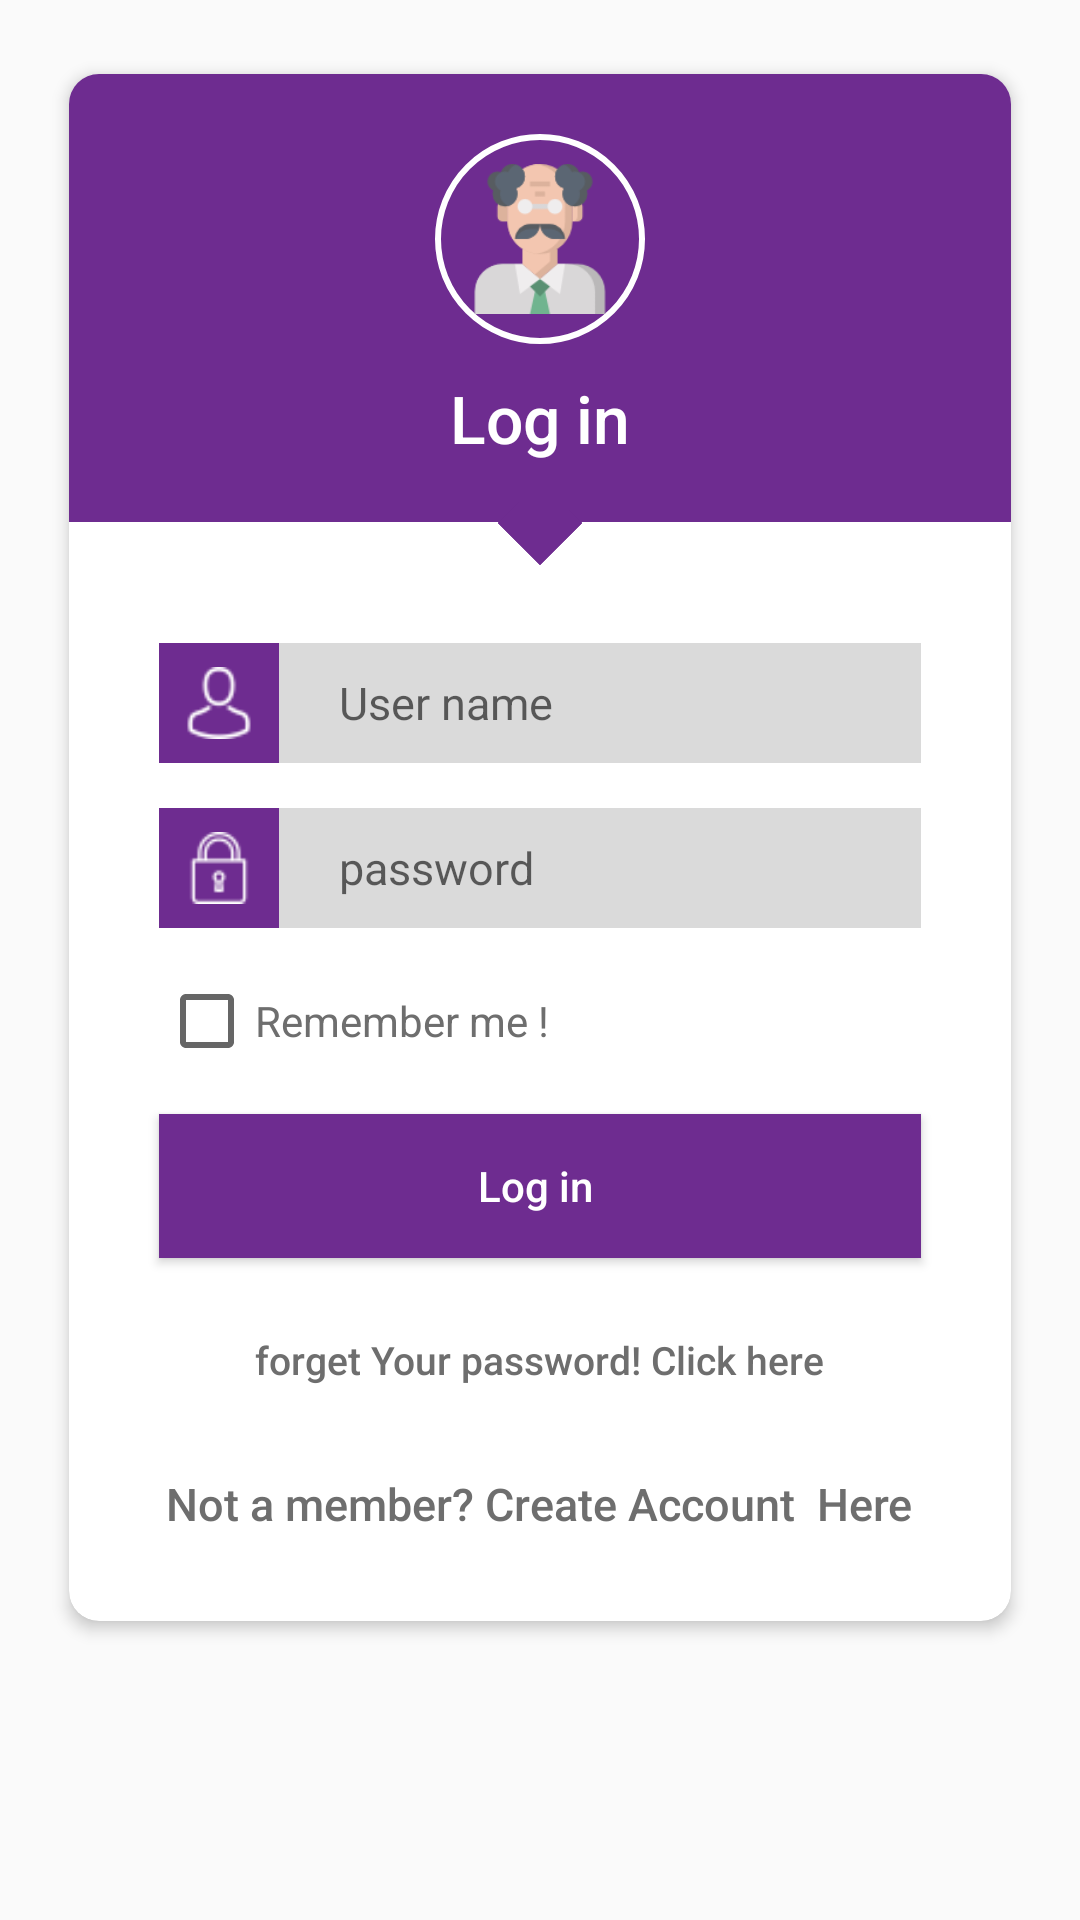

Named icons in this screenshot (1080×1920) and their bounding boxes, (x1, y1, x2, y2):
lock: (159, 808, 279, 928)
teacher: (435, 134, 645, 344)
